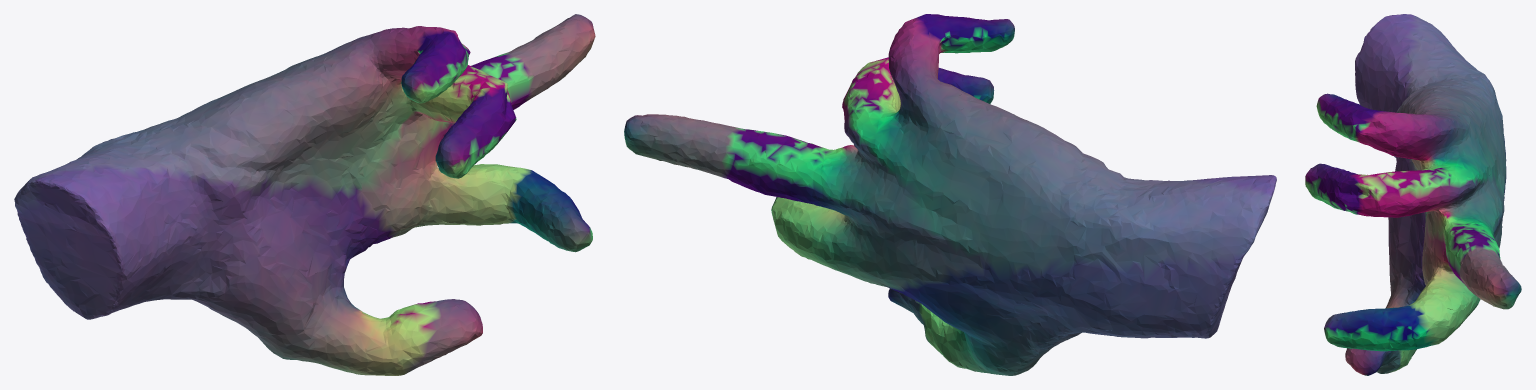
Rendered from hand-5.off.obj.
The picture shows the model from 3 angles, left to right: view 1: azimuth 30°, elevation 25°; view 2: azimuth 150°, elevation 25°; view 3: azimuth 270°, elevation 25°; orthographic projection. The views are drawn at different scales.
Size of the model in its own units: 1.68 by 0.8767 by 0.6171.
